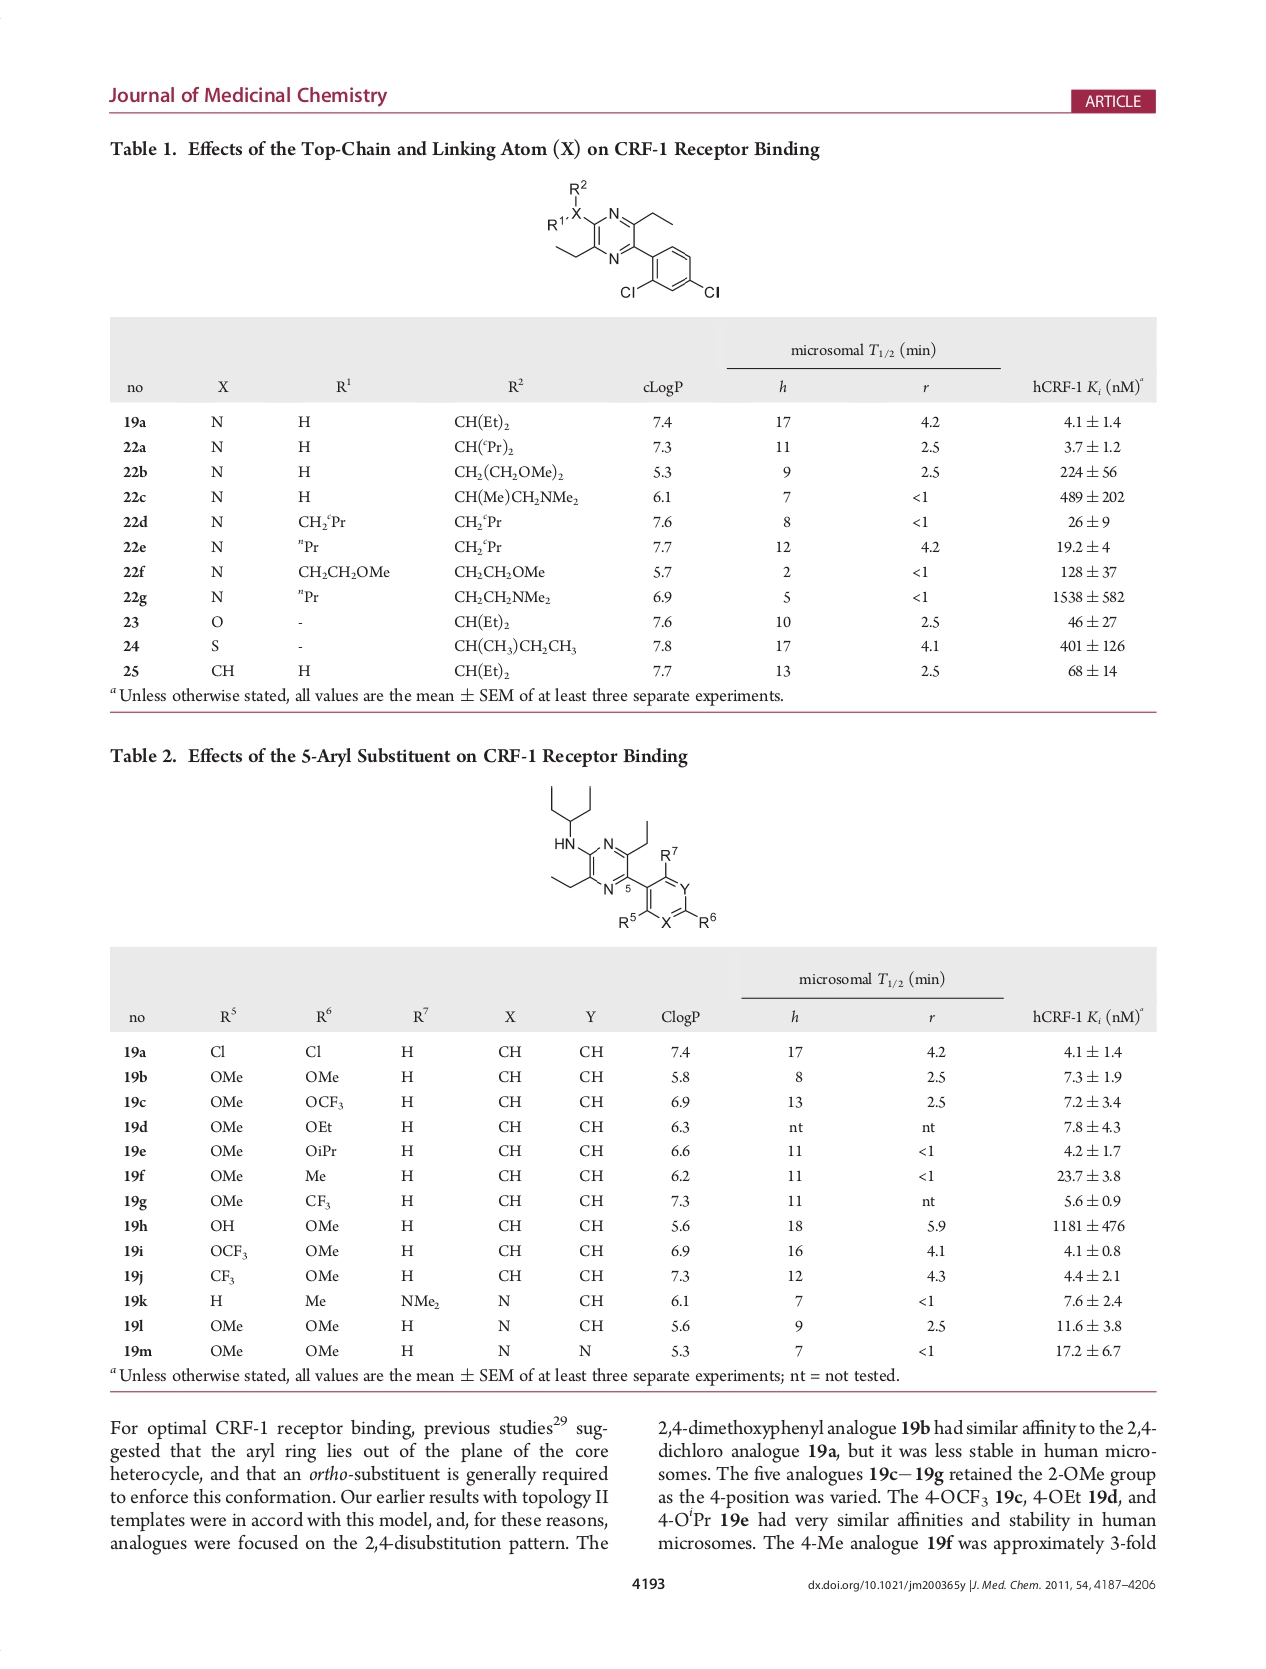exist_molecular: (540, 781, 722, 934), (540, 177, 721, 302)
